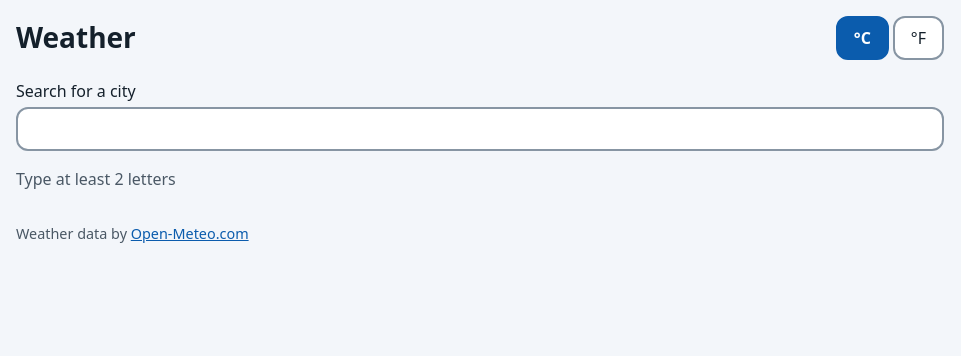
Test: errors › shows an error for mismatched daily arrays
This screenshot has width=961, height=356.
Type "Tokyo" into the search field labelled "Search for a city" at (480, 129), box [16,107,944,151]
Wait 400 ms
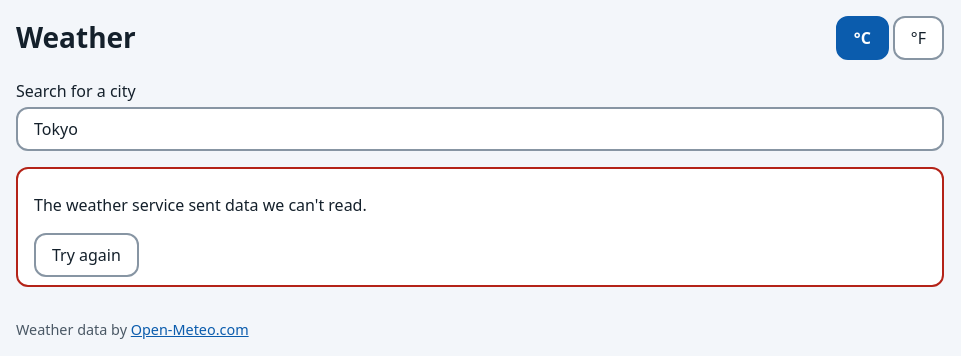
Check: the text "The weather service sent data we can't read." is shown, box [34,194,367,216]
